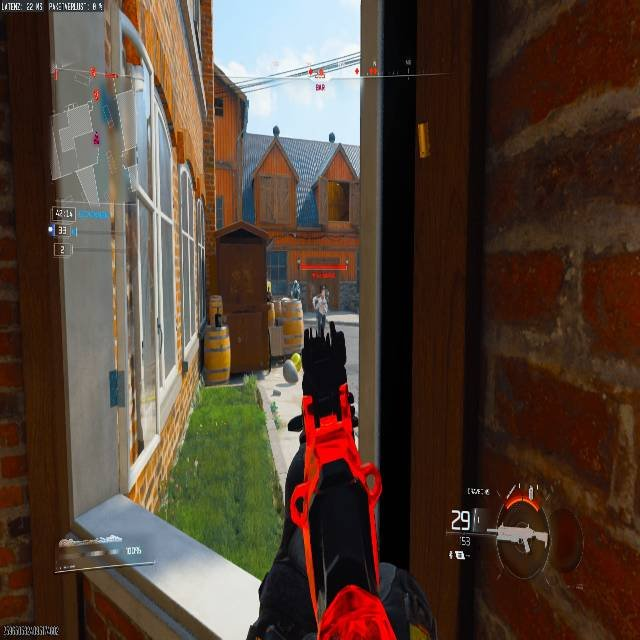player: (309, 286, 330, 334), (314, 288, 328, 319)
